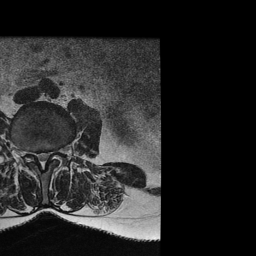CCS_normal: (40, 147, 45, 176)
LFS_severe_stenosis: (51, 145, 57, 159)
LLS_stenosis: (45, 146, 51, 165)
RFS_severe_stenosis: (28, 144, 35, 162)
RLS_stenosis: (35, 147, 40, 165)
